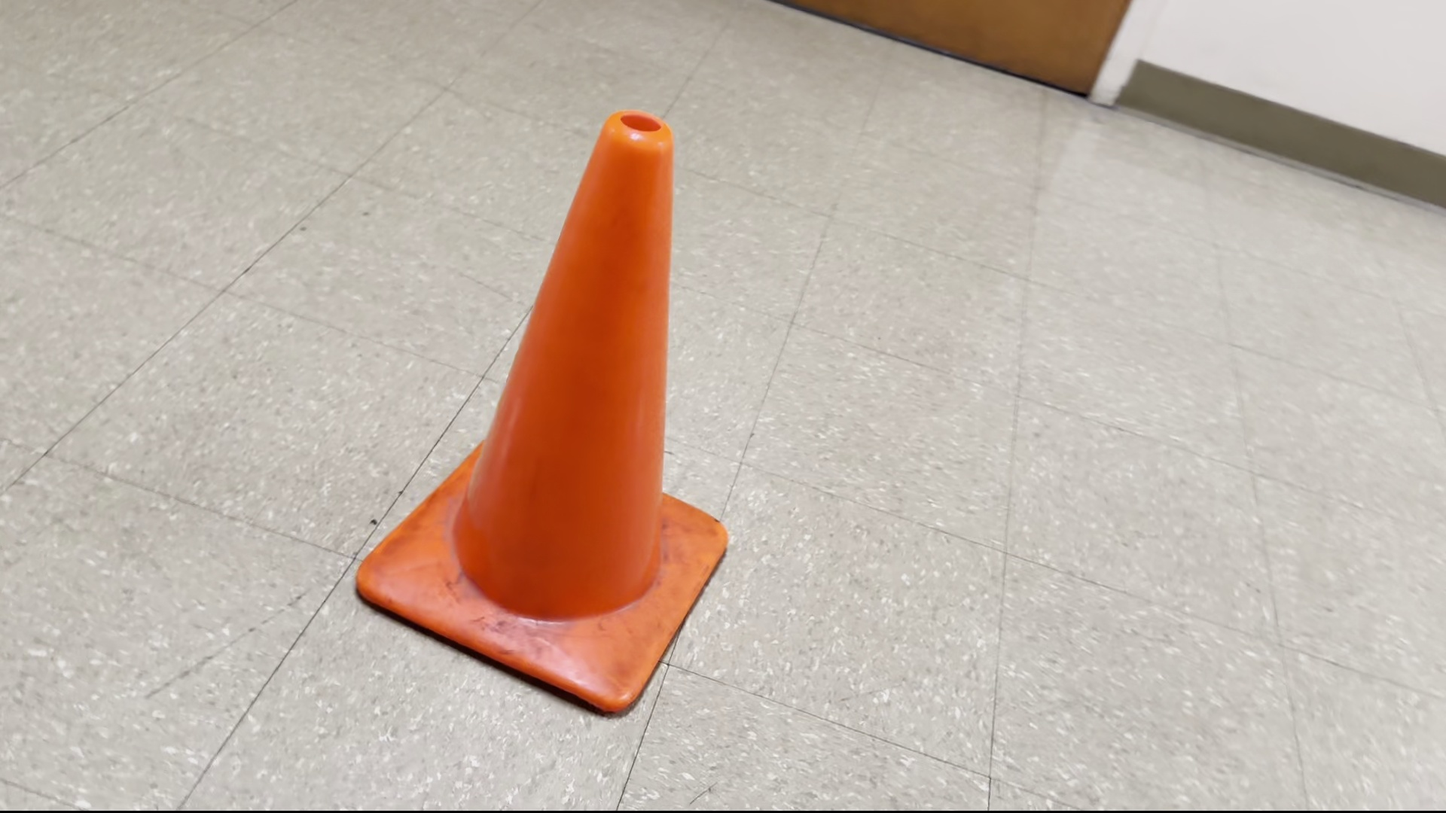traffic_cone: (354, 108, 729, 716)
